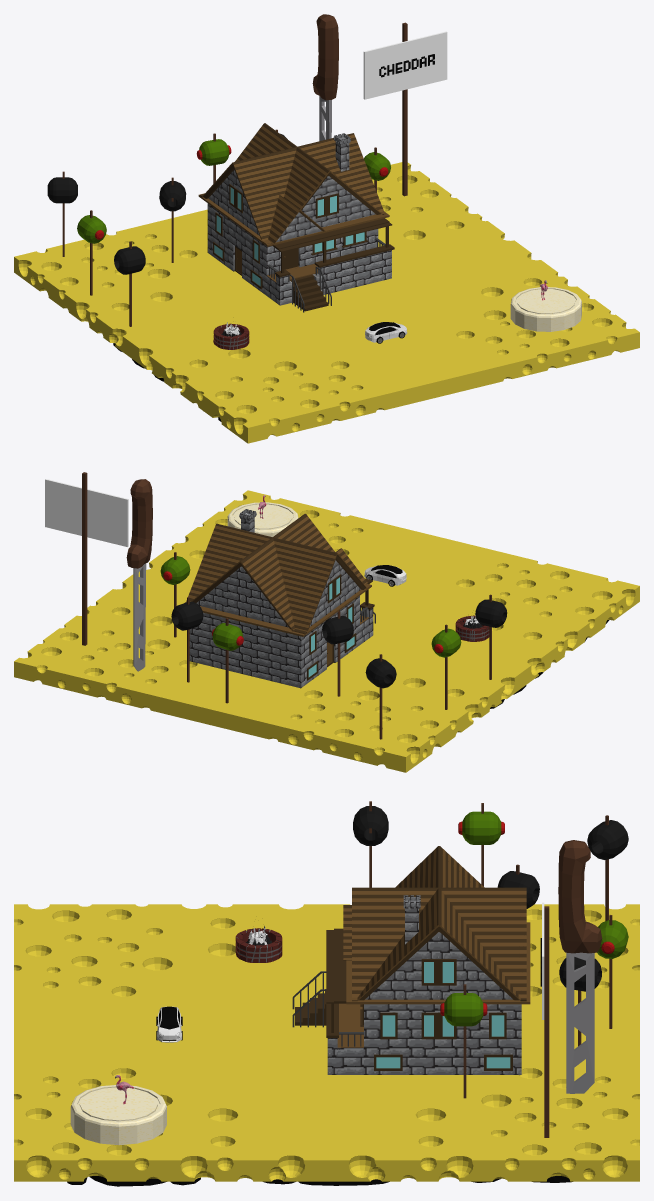
The picture shows the model from 3 angles, top to bottom: view 1: azimuth 30°, elevation 25°; view 2: azimuth 150°, elevation 25°; view 3: azimuth 270°, elevation 25°; orthographic projection. The views are drawn at different scales.
Visible parts, largest first — view 1: Cube.022, Cube.586, Cube.023, Cylinder.016, Cube.024, Sphere.017, Sphere.016, OBJRANDOM_CAMPFIRE, Sphere.020, Sphere.018, Sphere.022, VEHICLES_TESLA (+1 smaller); view 2: Cube.022, Cube.586, Cube.023, Cube.024, Cylinder.016, Sphere.020, Sphere.016, Sphere.022, Sphere.017, Sphere.021, Sphere.018, Sphere.019 (+2 smaller); view 3: Cube.022, Cube.586, Cube.024, Cylinder.016, Cube.023, Sphere.019, Sphere.016, OBJRANDOM_CAMPFIRE, Sphere.018, Curve.014, Sphere.017, Sphere.022 (+3 smaller).
Boxes of the visible parts, x1=… form: Cube.022: x1=14, y1=162, x2=639, y2=443; Cube.586: x1=198, y1=123, x2=394, y2=312; Cube.023: x1=363, y1=22, x2=447, y2=196; Cylinder.016: x1=510, y1=287, x2=581, y2=331; Cube.024: x1=312, y1=14, x2=338, y2=141; Sphere.017: x1=114, y1=241, x2=145, y2=326; Sphere.016: x1=47, y1=171, x2=77, y2=256; OBJRANDOM_CAMPFIRE: x1=213, y1=322, x2=249, y2=349; Sphere.020: x1=159, y1=177, x2=186, y2=262; Sphere.018: x1=77, y1=210, x2=106, y2=295; Sphere.022: x1=196, y1=133, x2=231, y2=183; VEHICLES_TESLA: x1=365, y1=322, x2=407, y2=343; Cube.022: x1=14, y1=490, x2=639, y2=772; Cube.586: x1=184, y1=509, x2=375, y2=688; Cube.023: x1=45, y1=472, x2=128, y2=645; Cube.024: x1=126, y1=479, x2=152, y2=671; Cylinder.016: x1=227, y1=502, x2=298, y2=536; Sphere.020: x1=322, y1=611, x2=353, y2=696; Sphere.016: x1=365, y1=654, x2=396, y2=739; Sphere.022: x1=212, y1=618, x2=243, y2=703; Sphere.017: x1=475, y1=594, x2=507, y2=679; Sphere.021: x1=171, y1=597, x2=203, y2=682; Sphere.018: x1=431, y1=624, x2=461, y2=709; Sphere.019: x1=160, y1=552, x2=190, y2=637; Cube.022: x1=14, y1=904, x2=639, y2=1181; Cube.586: x1=292, y1=846, x2=530, y2=1074; Cube.024: x1=558, y1=840, x2=602, y2=1093; Cylinder.016: x1=70, y1=1085, x2=166, y2=1145; Cube.023: x1=540, y1=902, x2=549, y2=1137; Sphere.019: x1=440, y1=984, x2=487, y2=1098; Sphere.016: x1=587, y1=815, x2=628, y2=920; OBJRANDOM_CAMPFIRE: x1=235, y1=926, x2=282, y2=962; Sphere.018: x1=458, y1=803, x2=504, y2=886; Curve.014: x1=67, y1=1176, x2=572, y2=1186; Sphere.017: x1=353, y1=801, x2=388, y2=887; Sphere.022: x1=597, y1=915, x2=628, y2=1028.
Bounding box in the file's own units: 3917 × 1980 × 4000.
32 materials, 4 textured.
